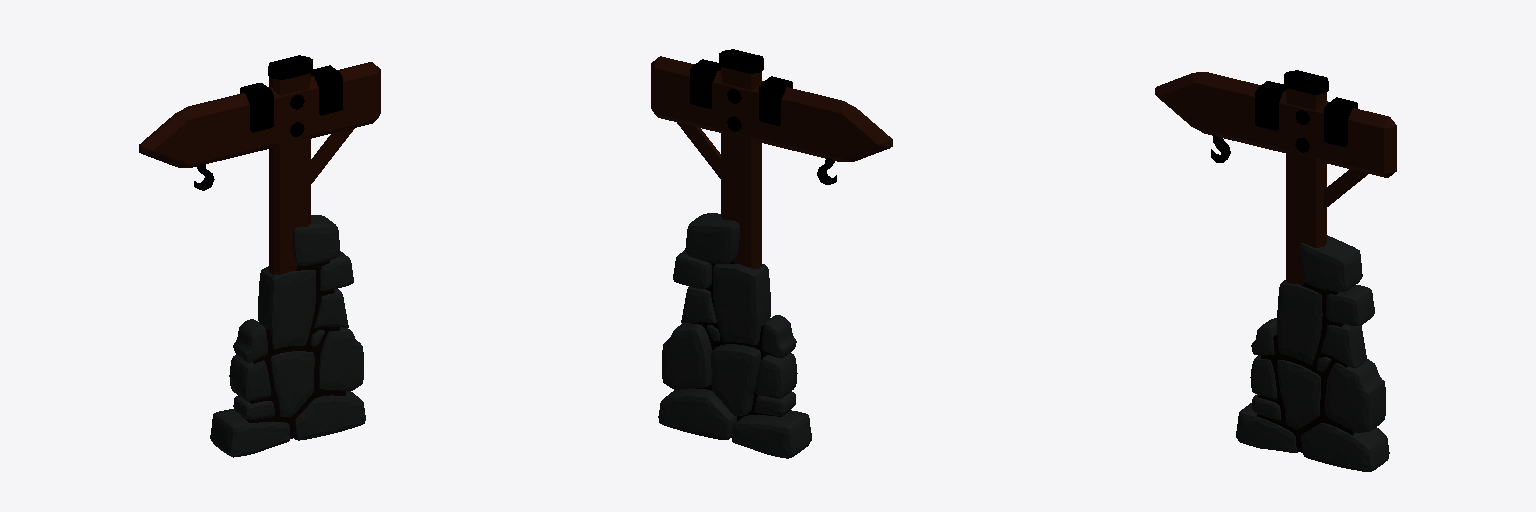
File: post.obj
3 renders of one model, left to right at view 1: azimuth 30°, elevation 25°; view 2: azimuth 150°, elevation 25°; view 3: azimuth 330°, elevation 25°, orthographic.
Visible parts, largest first — view 1: Plane.003, Plane.001, Plane, Plane.004, Plane.005, Plane.006, Plane.007, Plane.002; view 2: Plane.003, Plane.001, Plane, Plane.005, Plane.006, Plane.007, Plane.002, Plane.004; view 3: Plane.003, Plane.001, Plane, Plane.004, Plane.006, Plane.005, Plane.007, Plane.002.
Part boxes in pixels (bbox=[...]): Plane.003: bbox=[210, 215, 365, 457]; Plane.001: bbox=[139, 62, 380, 167]; Plane: bbox=[269, 73, 310, 274]; Plane.004: bbox=[242, 260, 345, 438]; Plane.005: bbox=[240, 83, 273, 132]; Plane.006: bbox=[311, 65, 342, 115]; Plane.007: bbox=[268, 55, 312, 79]; Plane.002: bbox=[311, 128, 354, 183]; Plane.003: bbox=[658, 213, 811, 458]; Plane.001: bbox=[651, 56, 892, 161]; Plane: bbox=[721, 67, 761, 268]; Plane.005: bbox=[759, 76, 792, 125]; Plane.006: bbox=[690, 59, 720, 108]; Plane.007: bbox=[719, 49, 763, 73]; Plane.002: bbox=[677, 122, 720, 178]; Plane.004: bbox=[685, 261, 790, 420]; Plane.003: bbox=[1236, 235, 1389, 471]; Plane.001: bbox=[1155, 72, 1396, 177]; Plane: bbox=[1286, 88, 1326, 285]; Plane.004: bbox=[1257, 282, 1354, 452]; Plane.006: bbox=[1324, 97, 1357, 147]; Plane.005: bbox=[1255, 81, 1285, 130]; Plane.007: bbox=[1284, 70, 1328, 94]; Plane.002: bbox=[1324, 169, 1368, 209].
Bounding box in the file's own units: 2.71 × 4.1 × 0.4758.